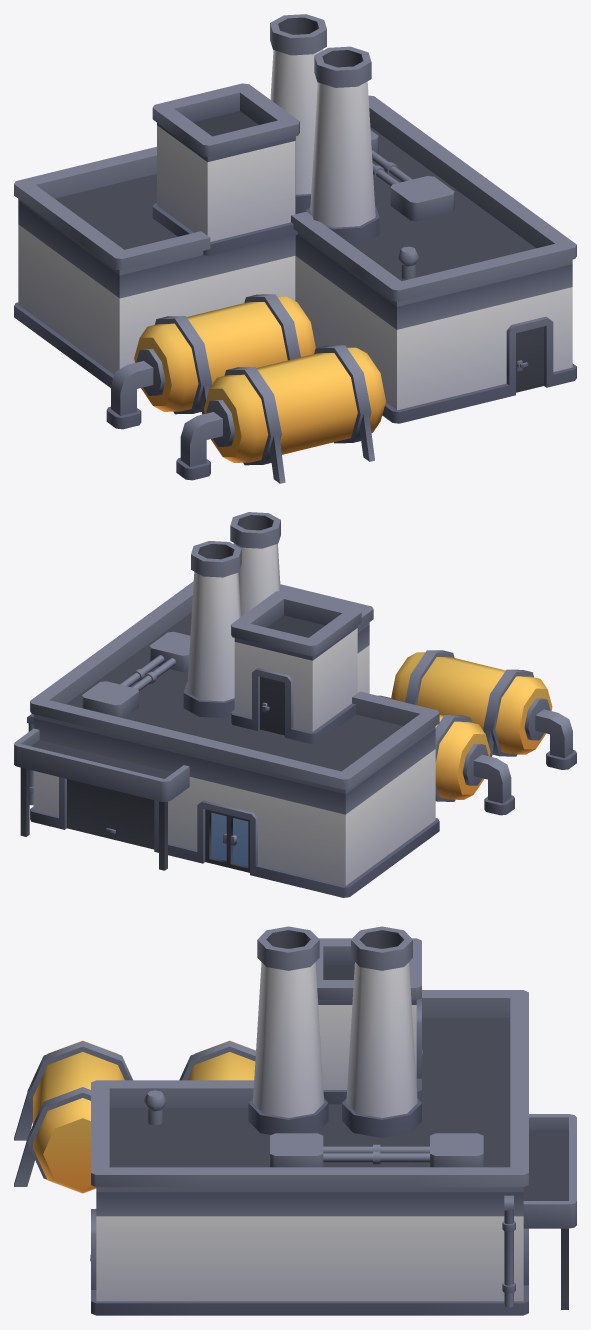
Rendered from building-c.fbx.
The picture shows the model from 3 angles, top to bottom: view 1: azimuth 30°, elevation 25°; view 2: azimuth 150°, elevation 25°; view 3: azimuth 270°, elevation 25°; orthographic projection. The views are drawn at different scales.
Parts seen in each view (by area): view 1: building-c; view 2: building-c; view 3: building-c.
Part boxes in pixels (x1,y1,x2,y2): building-c: (14,14,576,483); building-c: (14,512,576,897); building-c: (14,926,576,1315).
Bounding box in the file's own units: 188 × 125 × 211.
Materials: 1 (1 with a texture image).
